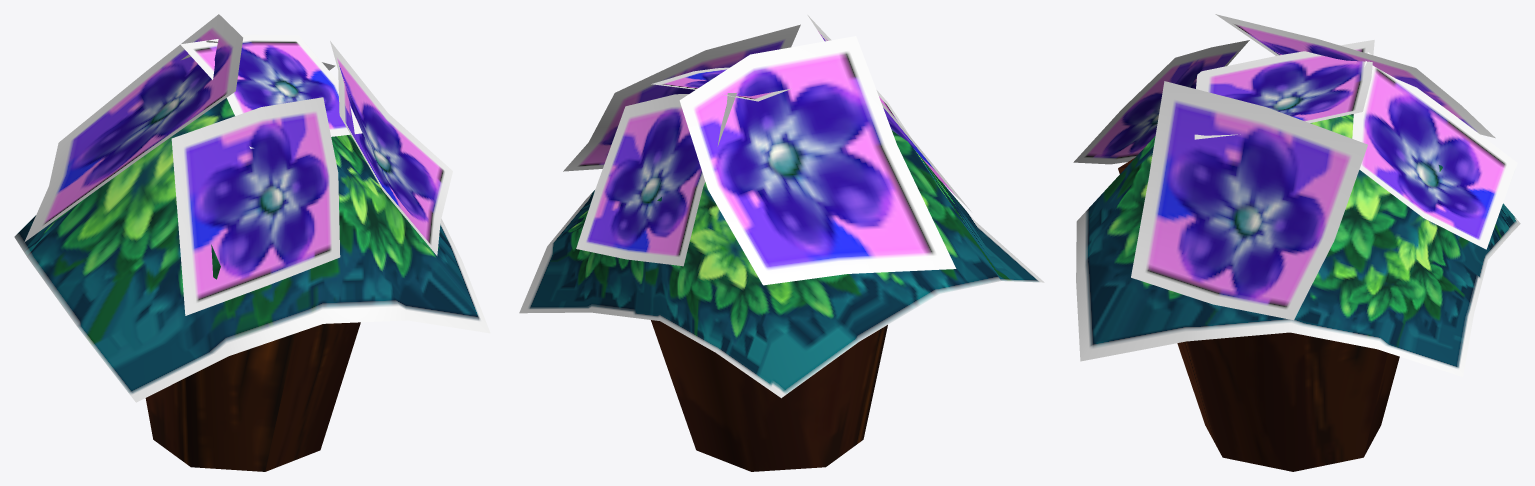
The model's file is SM_PROP_PLANT_pot_v2_01.glb.
The picture shows the model from 3 angles, left to right: view 1: azimuth 30°, elevation 25°; view 2: azimuth 150°, elevation 25°; view 3: azimuth 270°, elevation 25°; orthographic projection. The views are drawn at different scales.
Parts seen in each view (by area): view 1: SM_PROP_PLANT_pot_v2_01_EXPORT; view 2: SM_PROP_PLANT_pot_v2_01_EXPORT; view 3: SM_PROP_PLANT_pot_v2_01_EXPORT.
Boxes of the visible parts, x1,y1,x2,y2 form: SM_PROP_PLANT_pot_v2_01_EXPORT: (14, 14, 490, 471); SM_PROP_PLANT_pot_v2_01_EXPORT: (519, 15, 1044, 471); SM_PROP_PLANT_pot_v2_01_EXPORT: (1073, 14, 1520, 471).
Size of the model in its own units: 0.8346 by 0.7509 by 0.7565.
Materials: 2 (2 with a texture image).
